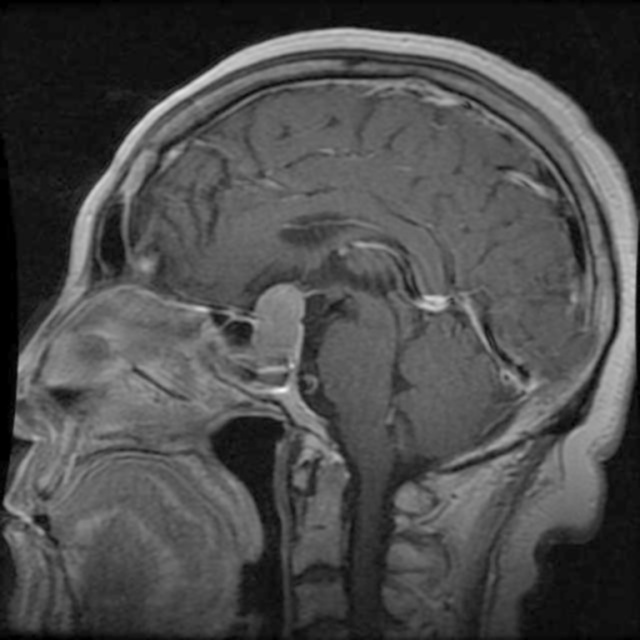no tumor: (259, 278, 305, 372)
